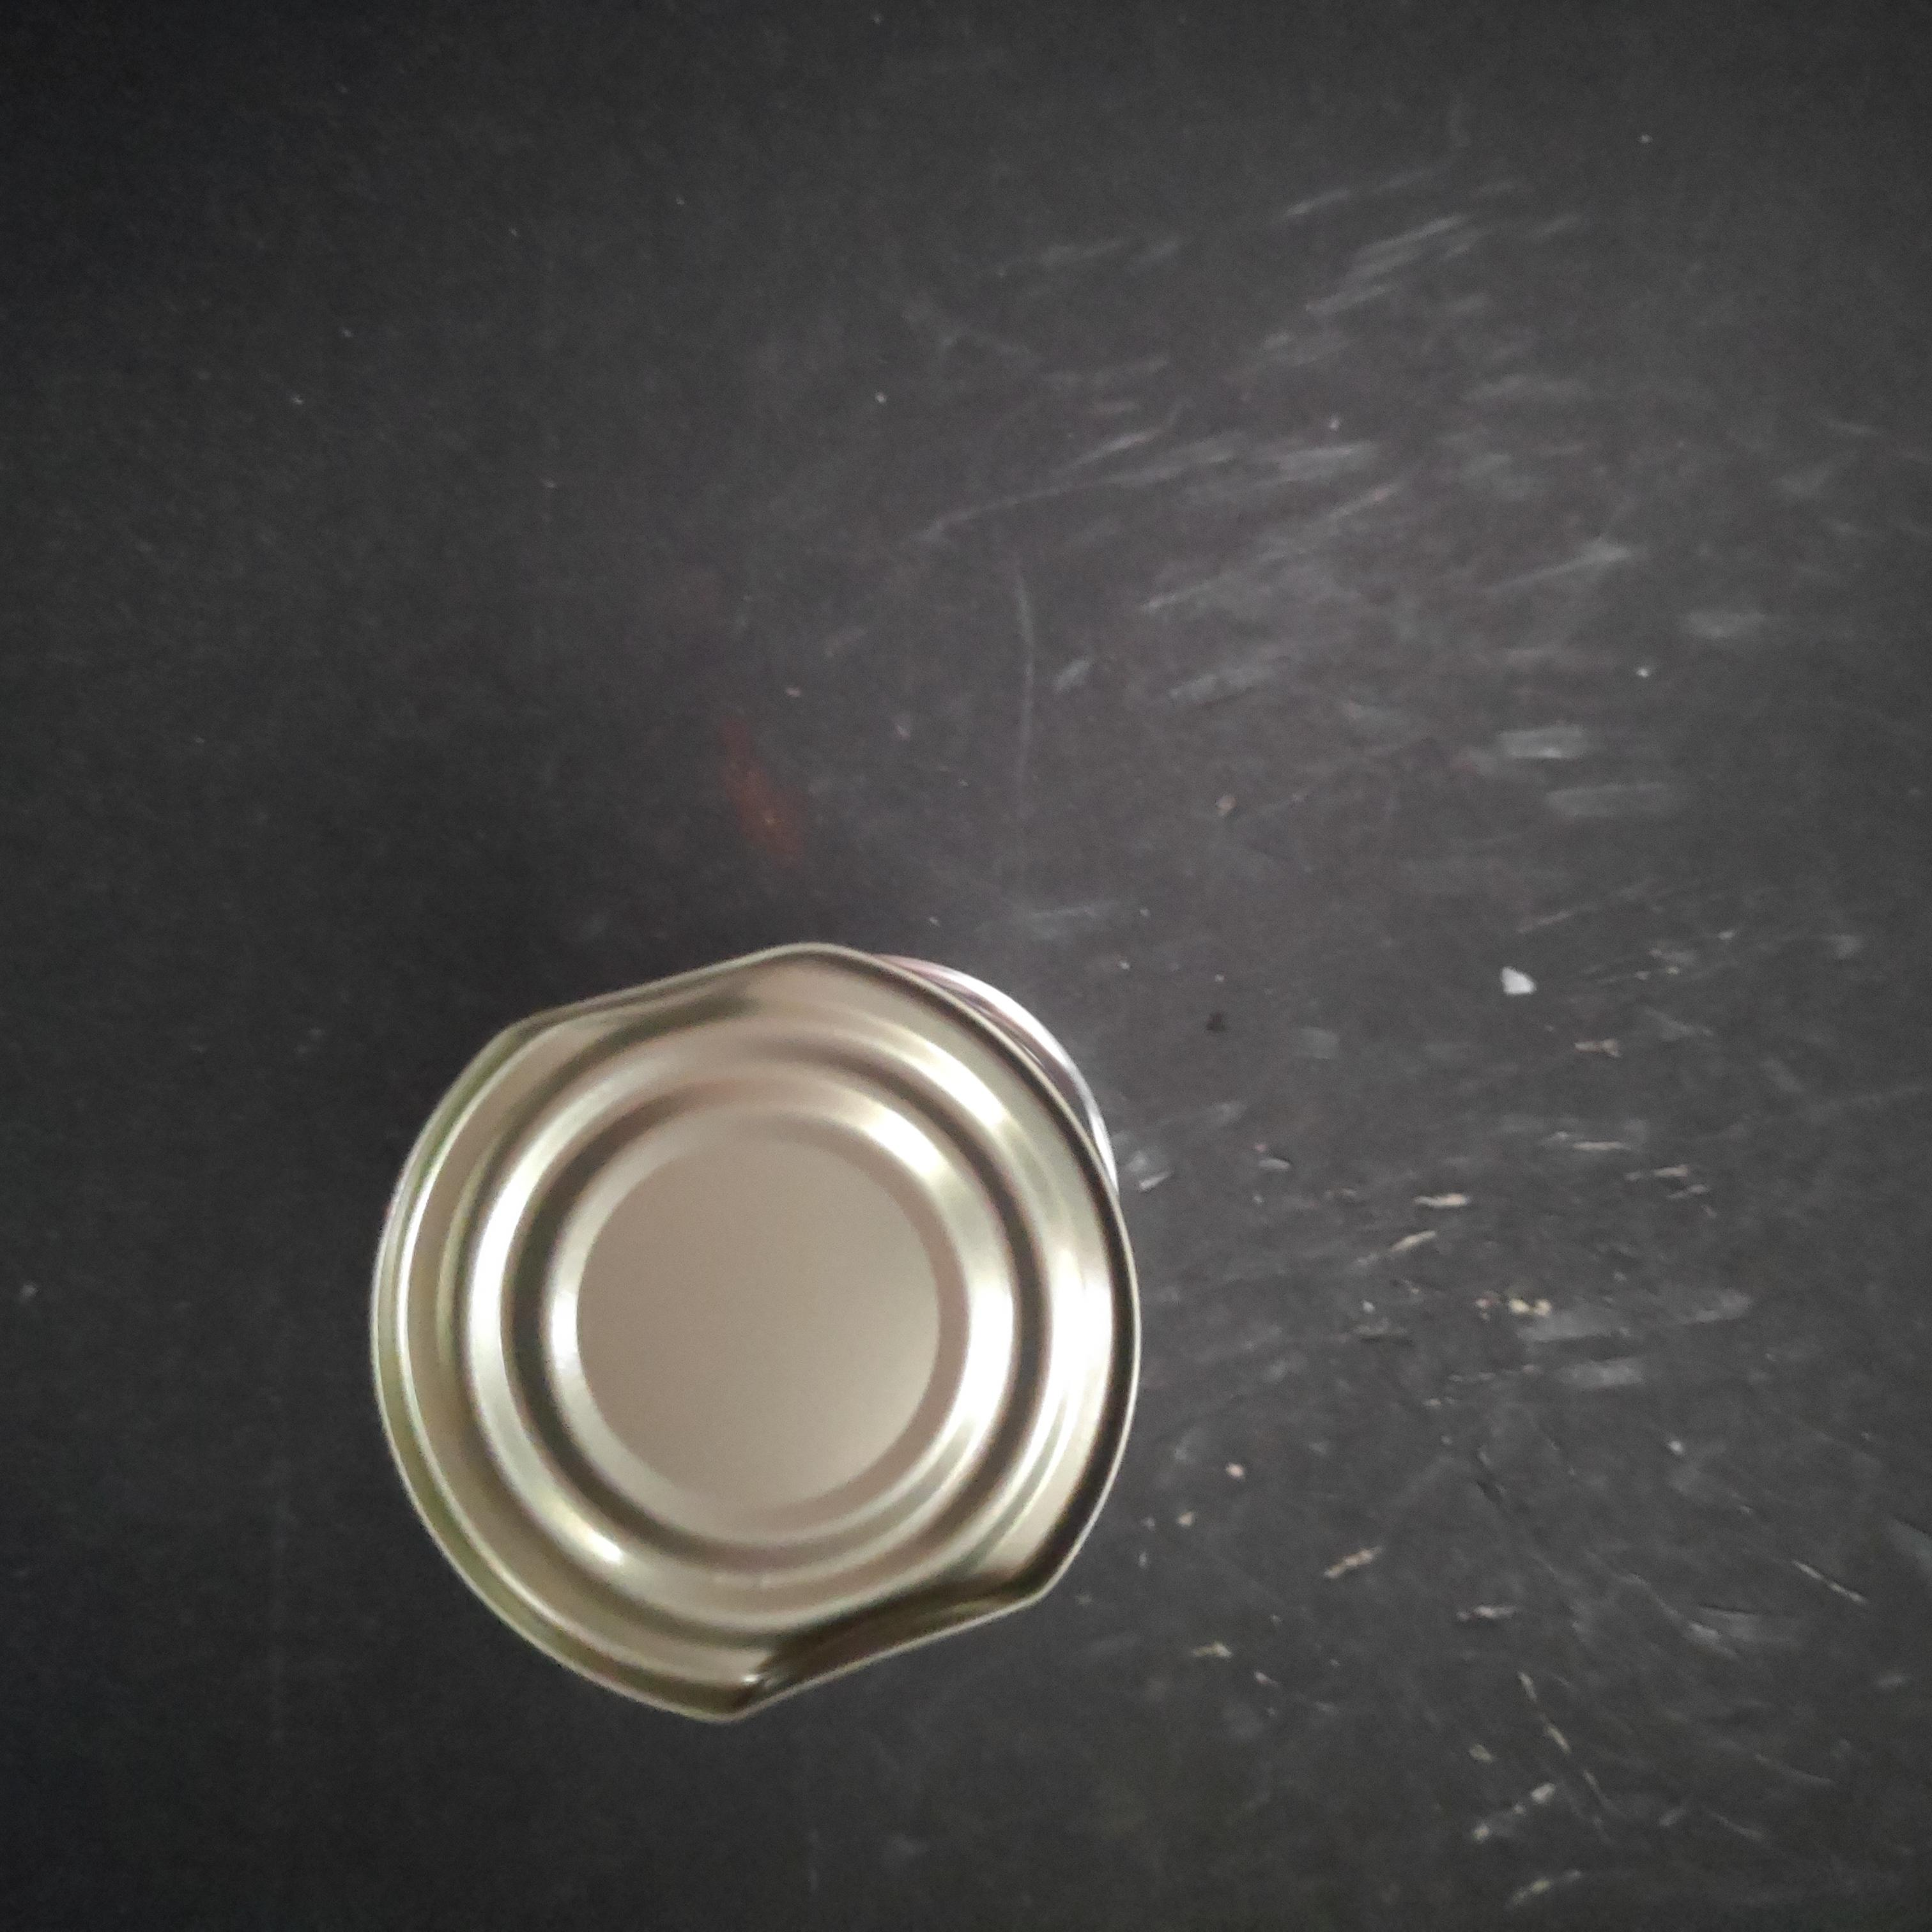Minor Defect: (340, 924, 1155, 1752)
